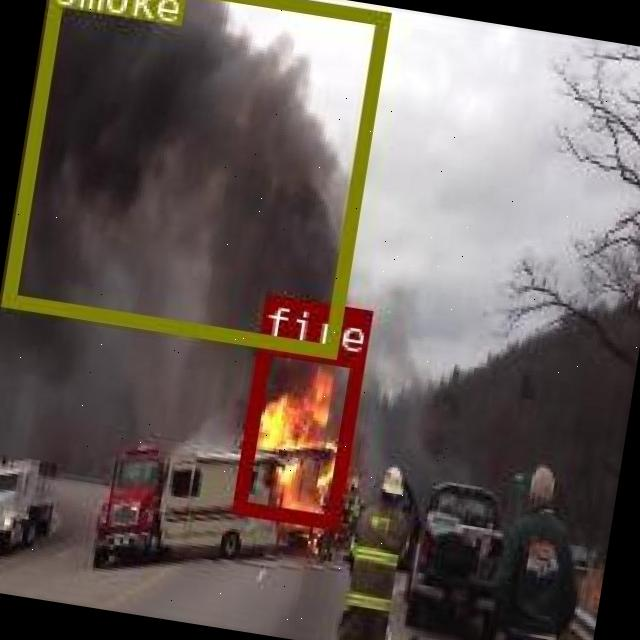fire: (232, 338, 361, 526)
smoke: (0, 0, 389, 356)
